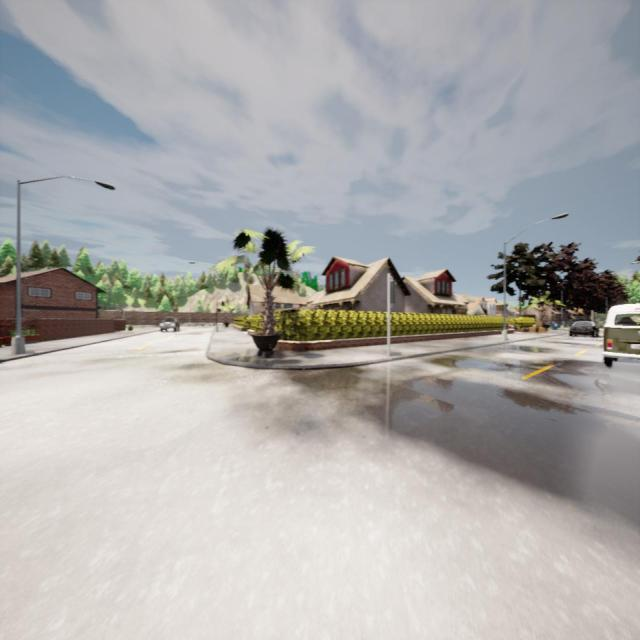Vehicle: (604, 306, 640, 368), (569, 321, 598, 338), (159, 317, 180, 332)
traffic_light: (389, 281, 396, 303)
